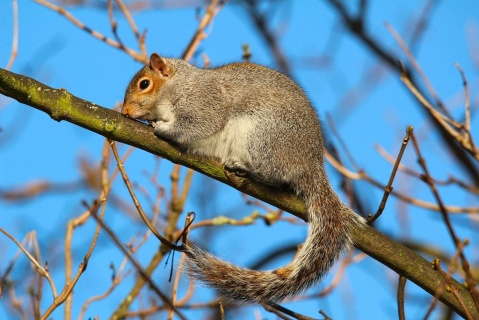Squirrel: (115, 49, 367, 307)
